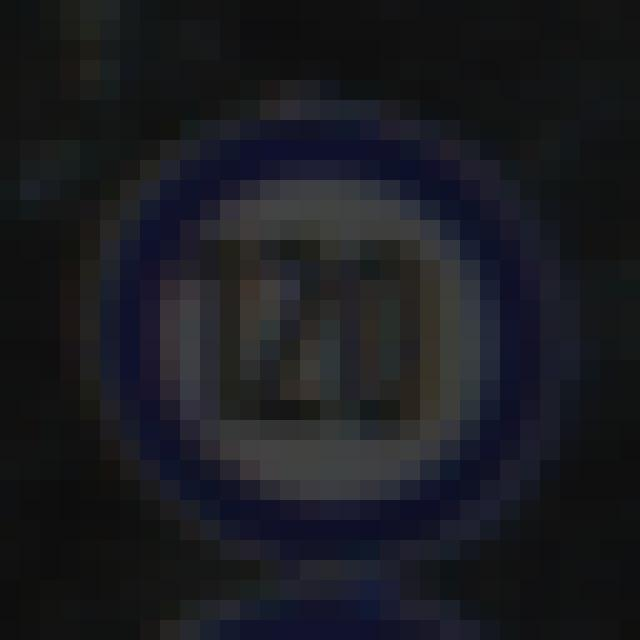SPEED LIMIT 120: (76, 102, 566, 554)
